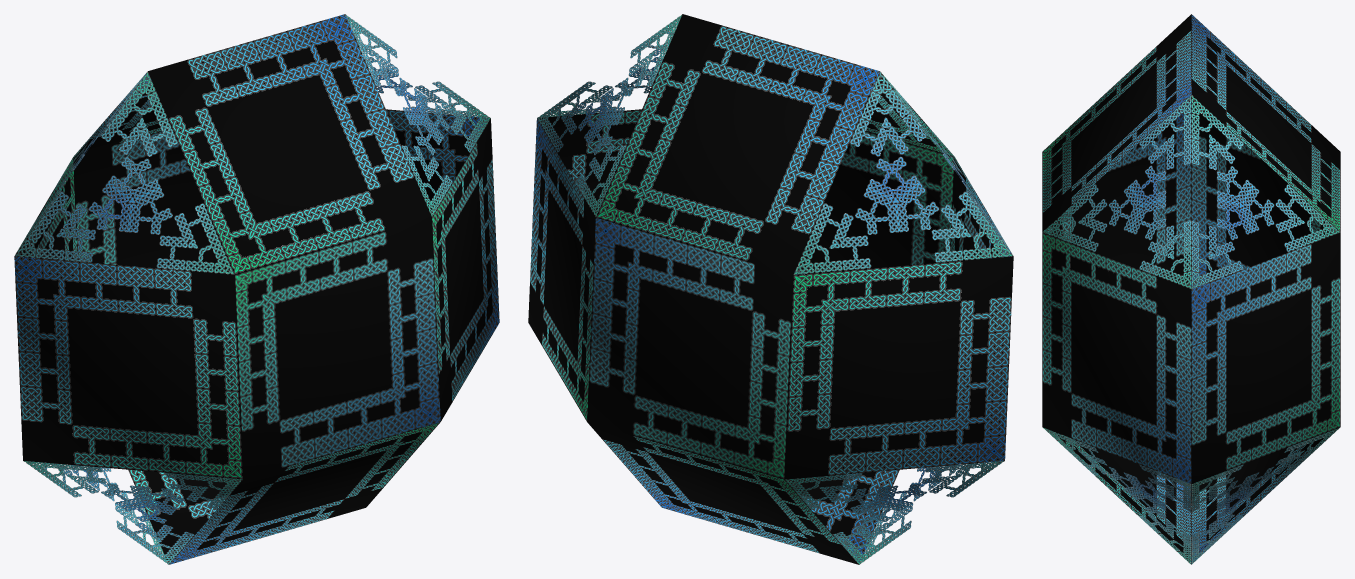
Rendered from 22SquareOrthobicupola.gltf.
3 views of the same model, side by side, from view 1: azimuth 30°, elevation 25°; view 2: azimuth 150°, elevation 25°; view 3: azimuth 270°, elevation 25° (orthographic). The views are drawn at different scales.
Parts seen in each view (by area): view 1: 22SquareOrthobicupola; view 2: 22SquareOrthobicupola; view 3: 22SquareOrthobicupola.
Part boxes in pixels (box(x1,y1,x2,y2)): 22SquareOrthobicupola: box(14, 14, 499, 564); 22SquareOrthobicupola: box(528, 14, 1013, 564); 22SquareOrthobicupola: box(1042, 14, 1340, 564).
Bounding box in the file's own units: 2.11 × 2.11 × 1.22.
Materials: 2 (2 with a texture image).
